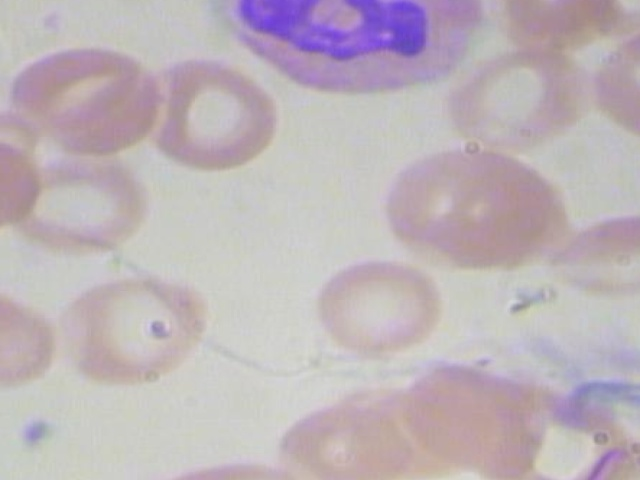Platelets: (12, 414, 70, 453)
RBC: (380, 143, 577, 276), (49, 266, 213, 393), (1, 43, 157, 153), (124, 59, 279, 169), (4, 147, 159, 257), (441, 43, 596, 153), (296, 254, 445, 363), (272, 391, 417, 480), (542, 193, 640, 303), (572, 23, 640, 144), (0, 278, 64, 394)
WBC: (182, 0, 495, 96)
